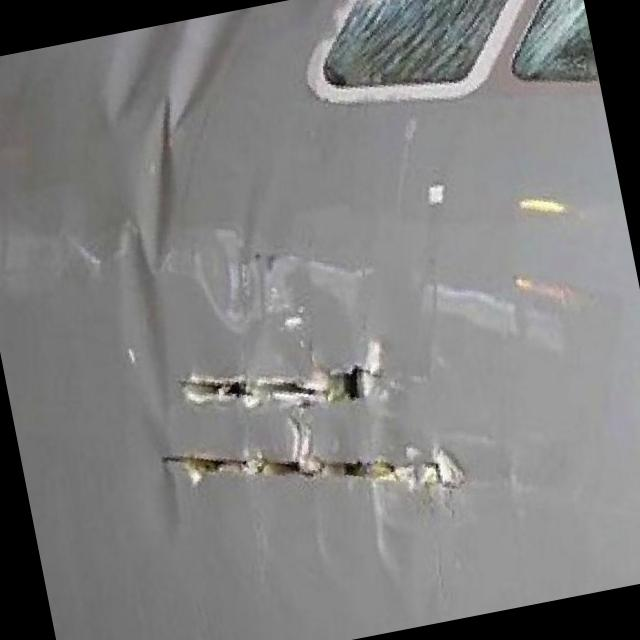crack: (128, 311, 476, 556)
